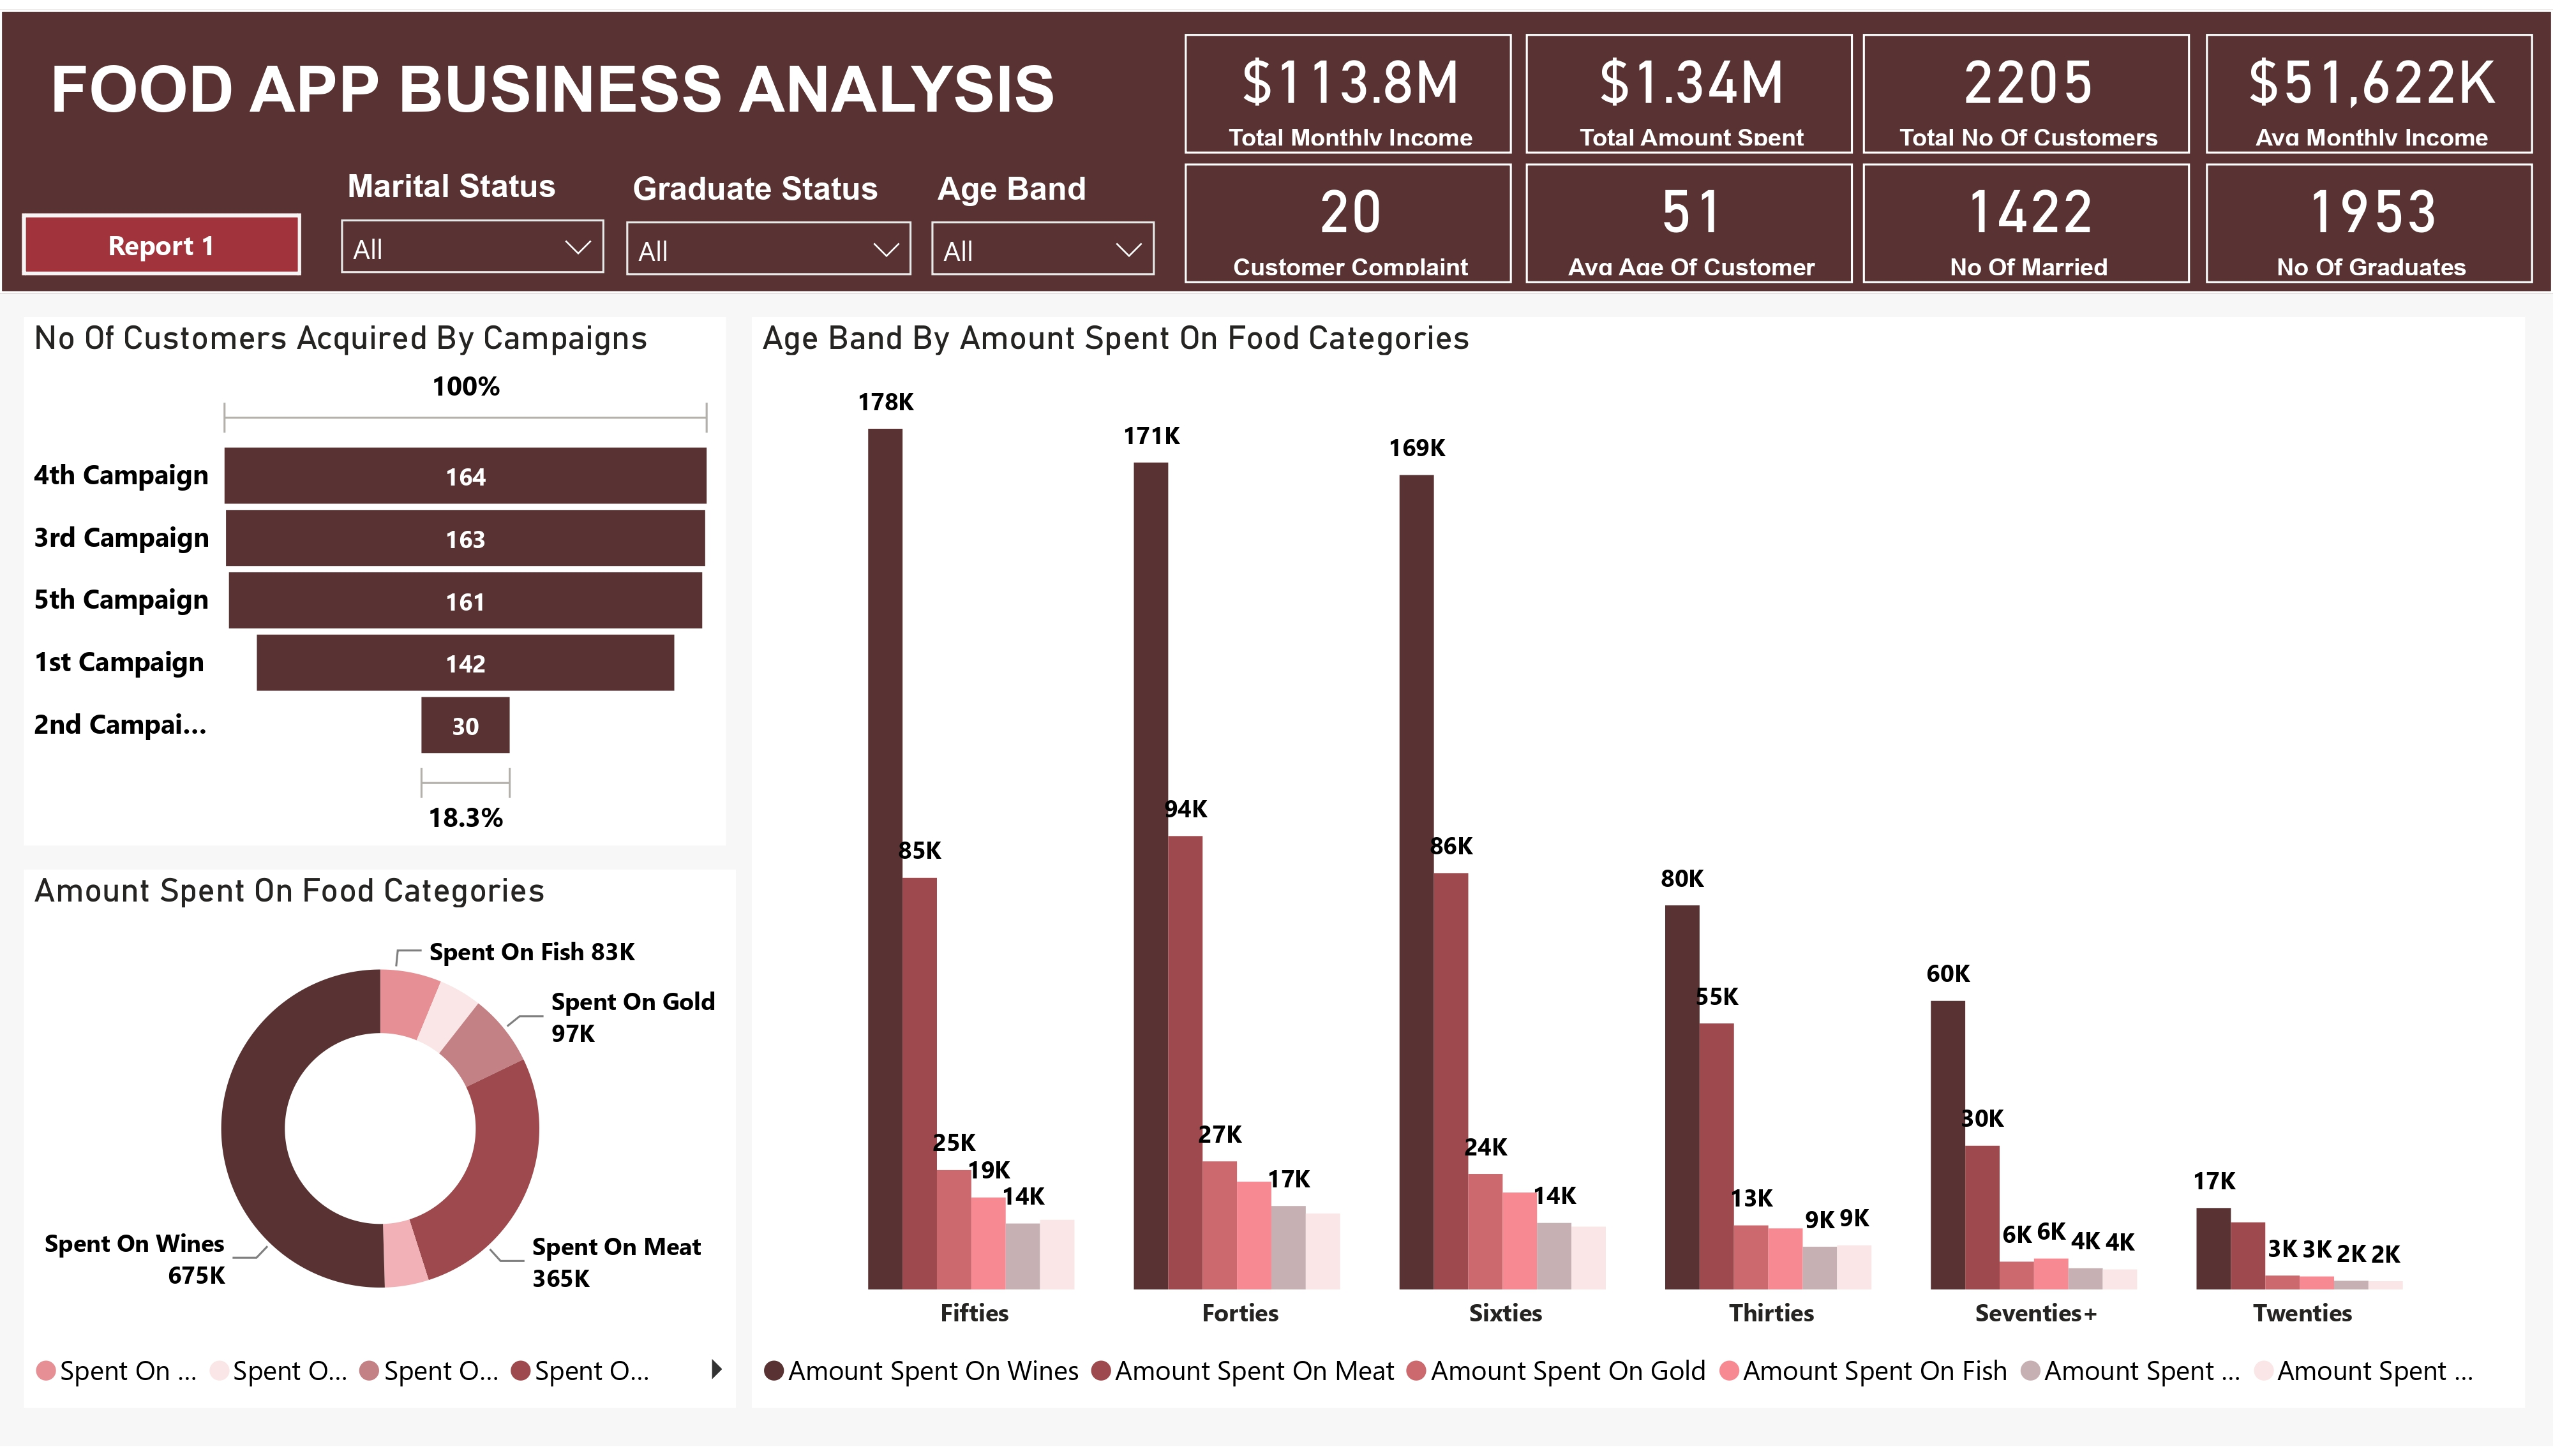

Layout of this report page (visuals, bound fields, positions):
{"tool":"powerbi","page":{"name":"REPORT 2","canvas":[1280,720],"ordinal":1},"visuals":[{"type":"shape","box":[0,0,1280,142],"z":0},{"type":"textbox","box":[20.1,16.8,528.4,53.7],"z":1000},{"type":"card","fields":{"Values":["DAX.No Of Graduates"]},"box":[1105.5,77.2,164.4,60.4],"z":2000},{"type":"card","fields":{"Values":["DAX.No Of Customer Complaint"]},"box":[593.9,77.2,164.4,60.4],"z":3000},{"type":"card","fields":{"Values":["DAX.No Of Married"]},"box":[934.4,77.2,164.4,60.4],"z":4000},{"type":"card","fields":{"Values":["DAX.Avg Customer Age"]},"box":[765,77.2,164.4,60.4],"z":5000},{"type":"clusteredColumnChart","title":"Age Band By Amount Spent On Food Categories","fields":{"Category":["FoodAppBusiness.AgeBand"],"Y":["DAX.Amount Spent On Wines","DAX.Amount Spent On Meat","DAX.Amount Spent On Gold","DAX.Amount Spent On Fish","DAX.Amount Spent On Sweet","DAX.Amount Spent On Fruits"]},"box":[377.5,154.3,889.1,546.9],"z":6000},{"type":"card","fields":{"Values":["DAX.Formatted Total Amount"]},"box":[765,11.7,164.4,60.4],"z":10000},{"type":"card","fields":{"Values":["DAX.Formated Avg Monthly Income"]},"box":[1105.5,11.7,164.4,60.4],"z":11000},{"type":"card","fields":{"Values":["DAX.Total No Of Customers"]},"box":[934.4,11.7,164.4,60.4],"z":12000},{"type":"card","fields":{"Values":["DAX.Formatted Total Amonthly Income"]},"box":[593.9,11.7,164.4,60.4],"z":13000},{"type":"funnel","title":"No Of Customers Acquired By  Campaigns","fields":{"Y":["DAX.4th Campaign","DAX.3rd Campaign","DAX.5th Campaign","DAX.1st Campaign","DAX.2nd Campaign"]},"box":[11.7,154.3,352.3,265.1],"z":14000},{"type":"slicer","fields":{"Values":["FoodAppBusiness.AgeBand"]},"box":[457.8,76.5,131.8,59.5],"z":15000,"group":"g1"},{"type":"donutChart","title":"Amount Spent On Food Categories","fields":{"Y":["DAX.Amount Spent On Fish","DAX.Amount Spent On Fruits","DAX.Amount Spent On Gold","DAX.Amount Spent On Meat","DAX.Amount Spent On Sweet","DAX.Amount Spent On Wines"]},"box":[11.7,431.1,357.3,270.1],"z":15000},{"type":"group","id":"g1","title":"Group 1","box":[11.3,75.1,578.3,60.9],"z":15001},{"type":"slicer","fields":{"Values":["FoodAppBusiness.Graduate_Status"]},"box":[304.7,76.5,163,59.5],"z":16000,"group":"g1"},{"type":"slicer","fields":{"Values":["FoodAppBusiness.Marital_Status"]},"box":[161.5,75.1,151.7,58.1],"z":17000,"group":"g1"},{"type":"actionButton","box":[11.3,102,140.3,31.2],"z":19000,"group":"g1"}]}

Visuals, with their boxes in screenshot pixels (x1, y1, x2, y2), scaled from the page's 1280x720 canvas onto the 2553x1456 screenshot:
shape: x1=0, y1=0, x2=2552, y2=287
textbox: x1=40, y1=34, x2=1094, y2=142
card - DAX.No Of Graduates: x1=2205, y1=156, x2=2533, y2=278
card - DAX.No Of Customer Complaint: x1=1185, y1=156, x2=1513, y2=278
card - DAX.No Of Married: x1=1864, y1=156, x2=2192, y2=278
card - DAX.Avg Customer Age: x1=1526, y1=156, x2=1853, y2=278
"Age Band By Amount Spent On Food Categories" clusteredColumnChart: x1=753, y1=312, x2=2526, y2=1418
card - DAX.Formatted Total Amount: x1=1526, y1=24, x2=1853, y2=146
card - DAX.Formated Avg Monthly Income: x1=2205, y1=24, x2=2533, y2=146
card - DAX.Total No Of Customers: x1=1864, y1=24, x2=2192, y2=146
card - DAX.Formatted Total Amonthly Income: x1=1185, y1=24, x2=1513, y2=146
"No Of Customers Acquired By  Campaigns" funnel: x1=24, y1=312, x2=726, y2=848
slicer - FoodAppBusiness.AgeBand: x1=913, y1=154, x2=1176, y2=275
"Amount Spent On Food Categories" donutChart: x1=24, y1=872, x2=736, y2=1418
"Group 1" group: x1=22, y1=152, x2=1176, y2=275
slicer - FoodAppBusiness.Graduate_Status: x1=608, y1=154, x2=933, y2=275
slicer - FoodAppBusiness.Marital_Status: x1=322, y1=152, x2=625, y2=269
actionButton: x1=22, y1=206, x2=303, y2=269
